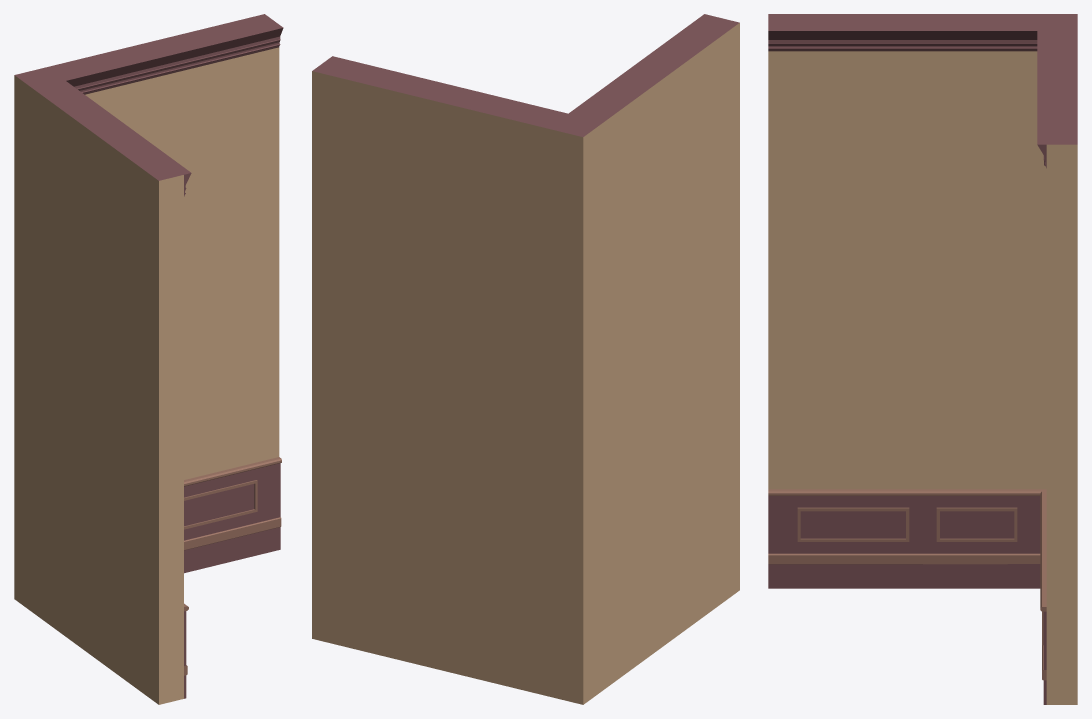
File: wall2corner.glb
3 views of the same model, side by side, from view 1: azimuth 30°, elevation 25°; view 2: azimuth 150°, elevation 25°; view 3: azimuth 270°, elevation 25° (orthographic). The views are drawn at different scales.
Parts seen in each view (by area): view 1: WallBigCorner2; view 2: WallBigCorner2; view 3: WallBigCorner2.
Part boxes in pixels (x1,y1,x2,y2): WallBigCorner2: (14,14,283,704); WallBigCorner2: (312,14,739,704); WallBigCorner2: (768,14,1077,704).
Bounding box in the file's own units: 2 × 4 × 2.
1 material, 1 textured.
